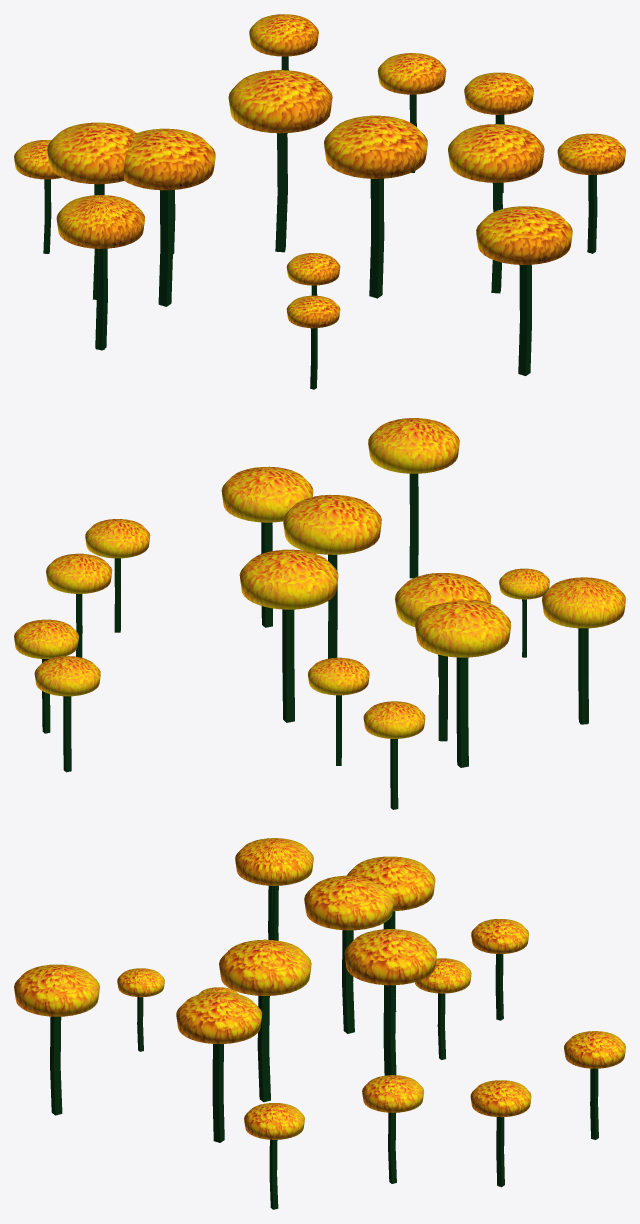
The model's file is cempa.fbx.
3 renders of one model, top to bottom at view 1: azimuth 30°, elevation 25°; view 2: azimuth 150°, elevation 25°; view 3: azimuth 270°, elevation 25°, orthographic. The views are drawn at different scales.
Parts seen in each view (by area): view 1: Cempa.001; view 2: Cempa.001; view 3: Cempa.001.
Boxes of the visible parts, x1,y1,x2,y2 form: Cempa.001: (14, 14, 625, 389); Cempa.001: (14, 418, 625, 809); Cempa.001: (14, 838, 625, 1209).
Size of the model in its own units: 621 by 199 by 662.
